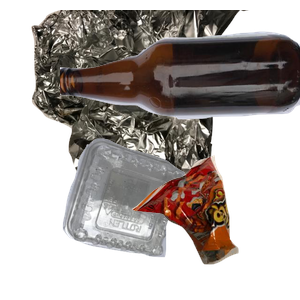glass: (60, 29, 300, 141)
metal: (29, 10, 269, 190)
plastic: (60, 136, 237, 300)
trash: (130, 153, 300, 300)
